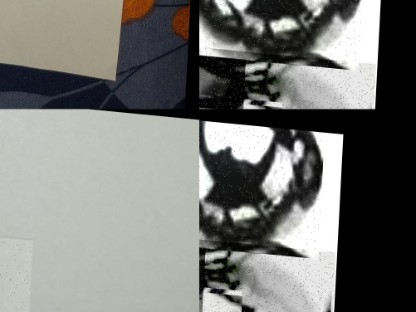ironball: (199, 112, 324, 253), (199, 42, 376, 109), (199, 231, 336, 311), (199, 0, 364, 64), (199, 49, 246, 109)
